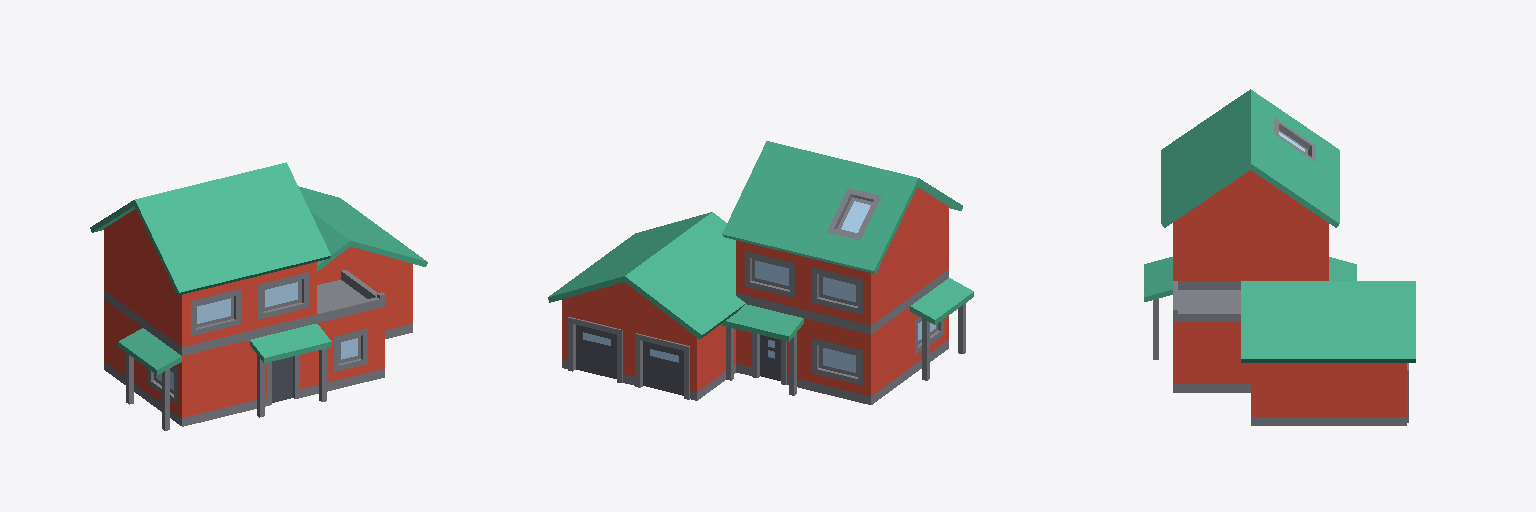
Rendered from house_type10.obj.
The picture shows the model from 3 angles: view 1: azimuth 30°, elevation 25°; view 2: azimuth 150°, elevation 25°; view 3: azimuth 270°, elevation 25°; orthographic projection.
Visible parts, largest first — view 1: house_type10; view 2: house_type10; view 3: house_type10.
Boxes of the visible parts, x1,y1,x2,y2 form: house_type10: [90, 162, 427, 430]; house_type10: [548, 141, 973, 404]; house_type10: [1144, 89, 1415, 425].
Bounding box in the file's own units: 1.81 × 1.14 × 1.4.